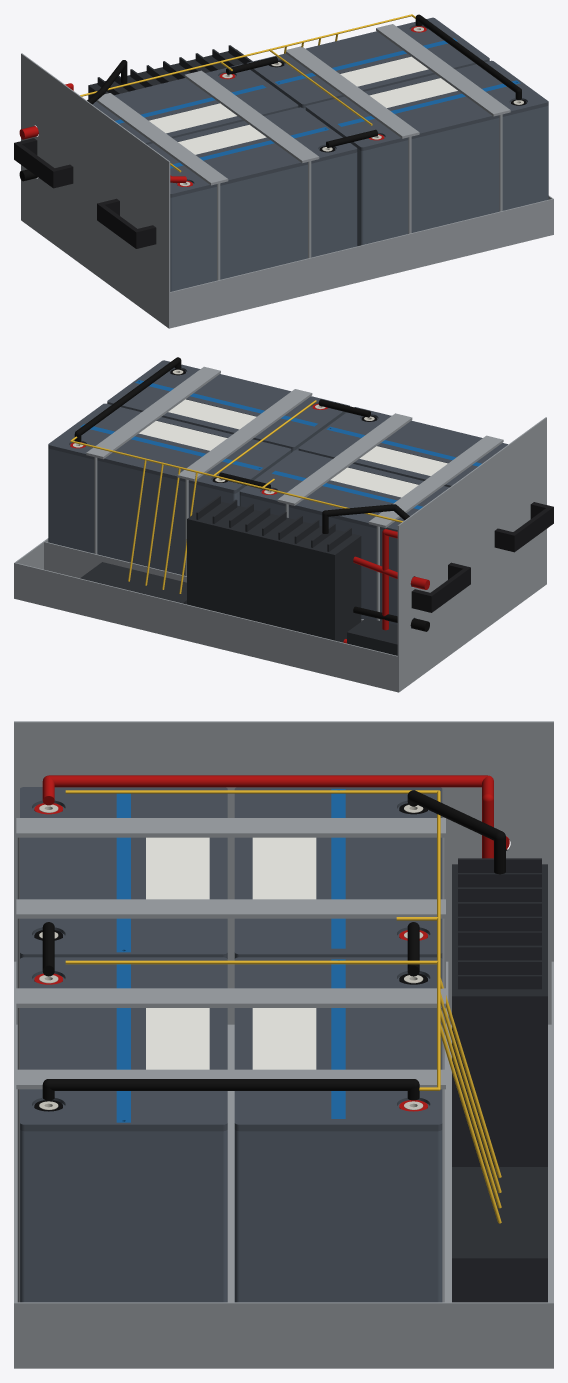
The model's file is r1_module48.glb.
3 renders of one model, top to bottom at view 1: azimuth 30°, elevation 25°; view 2: azimuth 150°, elevation 25°; view 3: azimuth 270°, elevation 25°, orthographic. The views are drawn at different scales.
Visible parts, largest first — view 1: Front panel, galvanised steel, Monobloc 2: Case container, PP-GF20, 10 compartments + 9 par, Monobloc 1: Case container, PP-GF20, 10 compartments + 9 par, Tray, galvanised steel (base, rear and side lips, bay divide, Hold-down bar + 2 tie rods (steel) (×4), Monobloc 2: Lid, PP-GF20, with 10 valve wells, vent manifold, Monobloc 3: Lid, PP-GF20, with 10 valve wells, vent manifold, Monobloc 1: Lid, PP-GF20, with 10 valve wells, vent manifold, Monobloc 4: Lid, PP-GF20, with 10 valve wells, vent manifold, Bidirectional DC/DC converter box (eff. 0.97 ASSUMPTION), Front pull handle R, Front pull handle L (+12 smaller); view 2: Front panel, galvanised steel, Bidirectional DC/DC converter box (eff. 0.97 ASSUMPTION), Tray, galvanised steel (base, rear and side lips, bay divide, Monobloc 3: Case container, PP-GF20, 10 compartments + 9 par, Hold-down bar + 2 tie rods (steel) (×4), Monobloc 3: Lid, PP-GF20, with 10 valve wells, vent manifold, Monobloc 2: Lid, PP-GF20, with 10 valve wells, vent manifold, Monobloc 1: Lid, PP-GF20, with 10 valve wells, vent manifold, Monobloc 4: Lid, PP-GF20, with 10 valve wells, vent manifold, Monobloc 4: Case container, PP-GF20, 10 compartments + 9 par, Module BMS enclosure (16-ch monitor board, CAN 2.0B), Front pull handle L (+17 smaller); view 3: Tray, galvanised steel (base, rear and side lips, bay divide, Front panel, galvanised steel, Monobloc 3: Case container, PP-GF20, 10 compartments + 9 par, Monobloc 2: Case container, PP-GF20, 10 compartments + 9 par, Hold-down bar + 2 tie rods (steel) (×4), Bidirectional DC/DC converter box (eff. 0.97 ASSUMPTION), Monobloc 2: Lid, PP-GF20, with 10 valve wells, vent manifold, Monobloc 3: Lid, PP-GF20, with 10 valve wells, vent manifold, Monobloc 1: Lid, PP-GF20, with 10 valve wells, vent manifold, Monobloc 4: Lid, PP-GF20, with 10 valve wells, vent manifold, Module BMS enclosure (16-ch monitor board, CAN 2.0B), Module + lead to fuse (+14 smaller).
Part boxes in pixels (x1,y1,x2,y2): Front panel, galvanised steel: (21,53,170,327); Monobloc 2: Case container, PP-GF20, 10 compartments + 9 par: (357,105,548,246); Monobloc 1: Case container, PP-GF20, 10 compartments + 9 par: (170,152,357,291); Tray, galvanised steel (base, rear and side lips, bay divide: (21,195,553,328); Hold-down bar + 2 tie rods (steel) (×4): (96,24,510,280); Monobloc 2: Lid, PP-GF20, with 10 valve wells, vent manifold: (305,60,548,150); Monobloc 3: Lid, PP-GF20, with 10 valve wells, vent manifold: (247,17,489,107); Monobloc 1: Lid, PP-GF20, with 10 valve wells, vent manifold: (147,107,357,197); Monobloc 4: Lid, PP-GF20, with 10 valve wells, vent manifold: (92,64,298,144); Bidirectional DC/DC converter box (eff. 0.97 ASSUMPTION): (88,45,252,98); Front pull handle R: (14,138,73,188); Front pull handle L: (97,198,156,248); Front panel, galvanised steel: (397,417,546,692); Bidirectional DC/DC converter box (eff. 0.97 ASSUMPTION): (187,495,361,642); Tray, galvanised steel (base, rear and side lips, bay divide: (14,538,546,692); Monobloc 3: Case container, PP-GF20, 10 compartments + 9 par: (48,448,239,575); Hold-down bar + 2 tie rods (steel) (×4): (86,366,503,620); Monobloc 3: Lid, PP-GF20, with 10 valve wells, vent manifold: (48,403,291,493); Monobloc 2: Lid, PP-GF20, with 10 valve wells, vent manifold: (107,360,349,450); Monobloc 1: Lid, PP-GF20, with 10 valve wells, vent manifold: (298,407,507,487); Monobloc 4: Lid, PP-GF20, with 10 valve wells, vent manifold: (239,450,449,531); Monobloc 4: Case container, PP-GF20, 10 compartments + 9 par: (239,495,414,628); Module BMS enclosure (16-ch monitor board, CAN 2.0B): (80,562,186,604); Front pull handle L: (494,502,553,552); Tray, galvanised steel (base, rear and side lips, bay divide: (14,961,553,1368); Front panel, galvanised steel: (14,721,553,1024); Monobloc 3: Case container, PP-GF20, 10 compartments + 9 par: (234,1129,442,1302); Monobloc 2: Case container, PP-GF20, 10 compartments + 9 par: (20,1130,227,1302); Hold-down bar + 2 tie rods (steel) (×4): (16,818,445,1302); Bidirectional DC/DC converter box (eff. 0.97 ASSUMPTION): (452,858,547,1166); Monobloc 2: Lid, PP-GF20, with 10 valve wells, vent manifold: (20,957,227,1131); Monobloc 3: Lid, PP-GF20, with 10 valve wells, vent manifold: (234,957,442,1131); Monobloc 1: Lid, PP-GF20, with 10 valve wells, vent manifold: (20,787,227,958); Monobloc 4: Lid, PP-GF20, with 10 valve wells, vent manifold: (234,787,442,958); Module BMS enclosure (16-ch monitor board, CAN 2.0B): (452,1167,547,1302); Module + lead to fuse: (42,775,493,858).
Size of the model in its own units: 0.711 by 0.28 by 0.45.
